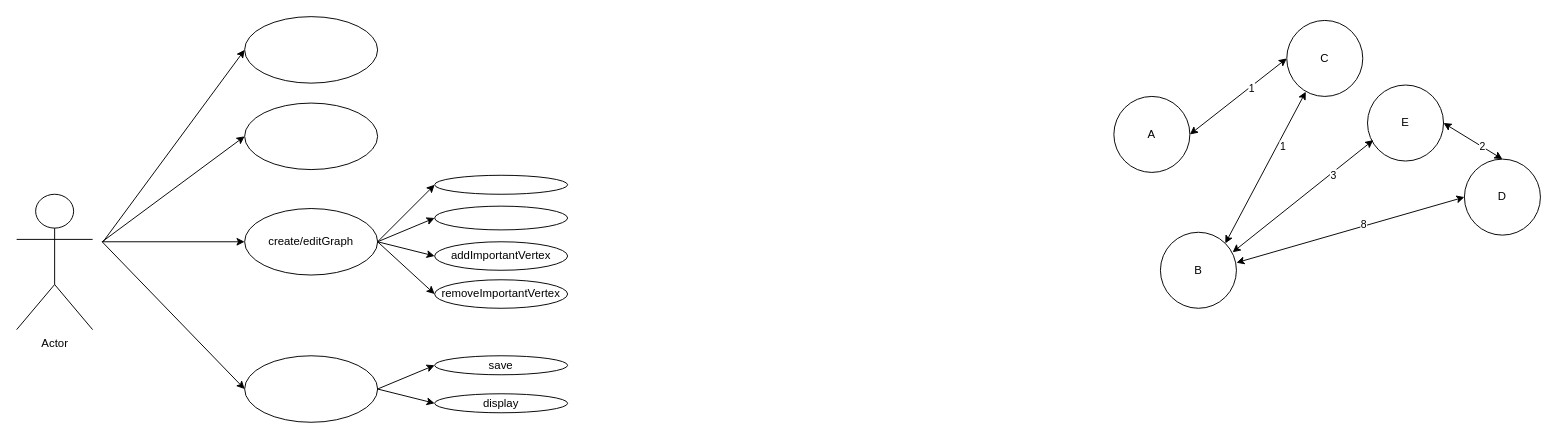
Some shapes in this 1557 by 439 pixel diagram are drawn without their labels. Each missing label, with the centre of its shape:
addVertex: the point at 501,184
generateMaze: the point at 311,49
openGraph: the point at 311,136
removeVertex: the point at 501,217
showShortestPath: the point at 311,388
